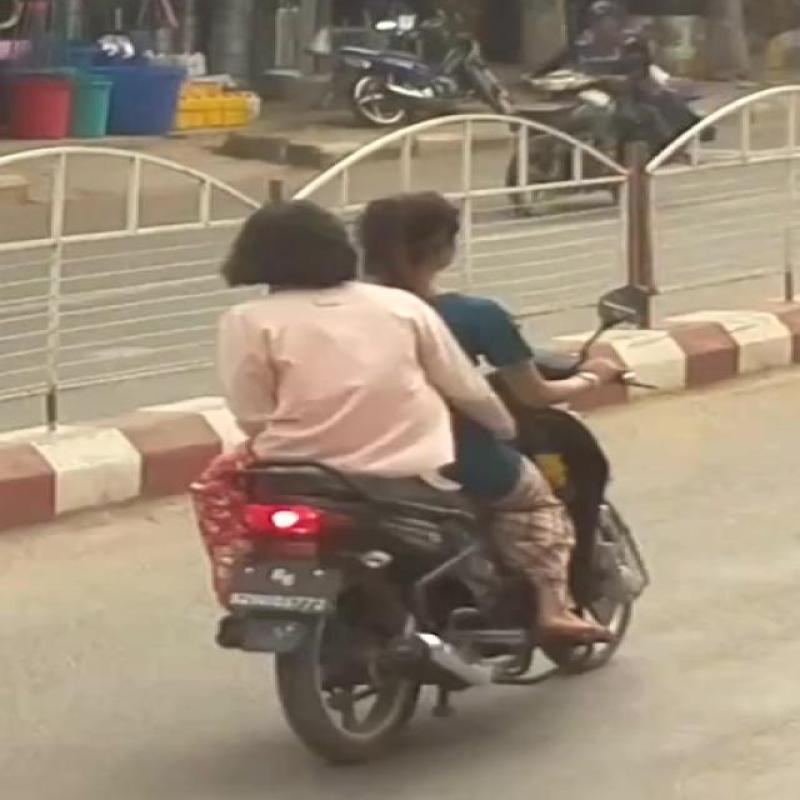nohelmet: (182, 187, 357, 308), (362, 180, 522, 308)
